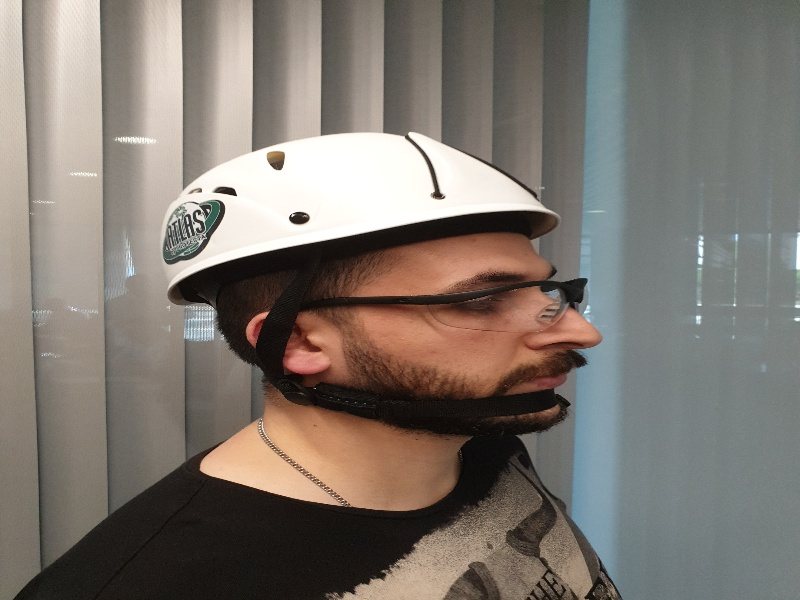Baret: (162, 131, 565, 271)
Gozluk: (296, 278, 588, 341)
